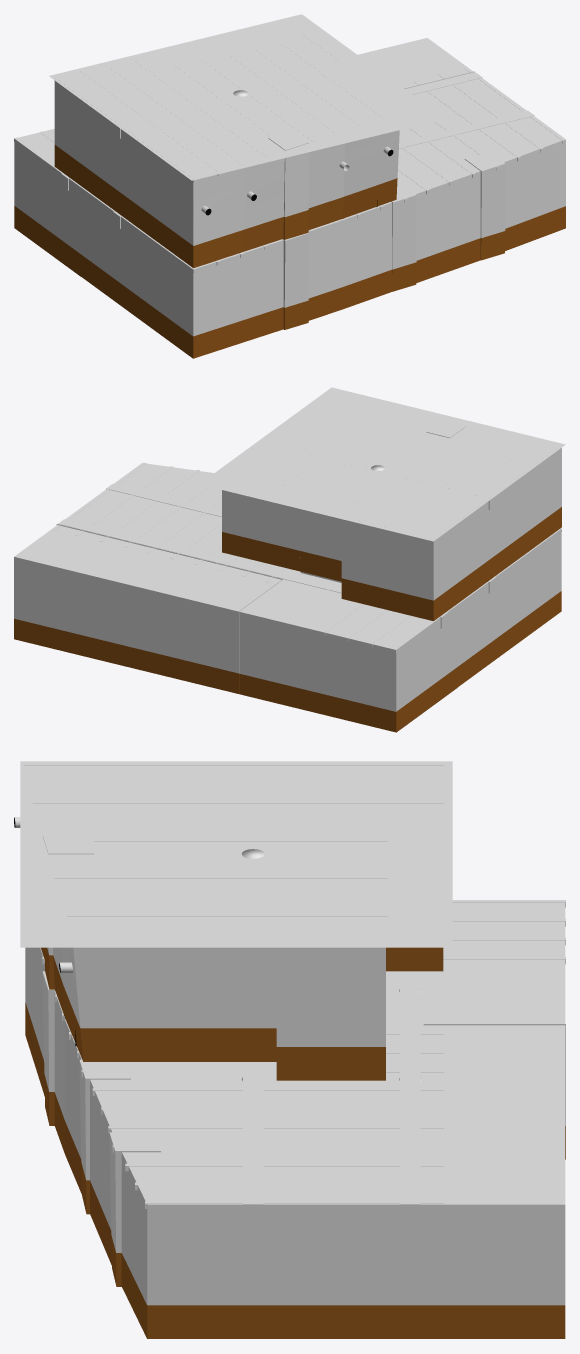
Rendered from Mail_Room.fbx.
The picture shows the model from 3 angles, top to bottom: view 1: azimuth 30°, elevation 25°; view 2: azimuth 150°, elevation 25°; view 3: azimuth 270°, elevation 25°; orthographic projection. The views are drawn at different scales.
Parts seen in each view (by area): view 1: Orlop Walls, G-Deck Celing, G-Deck Walls, Orlop Celing, Orlop Celing Supports, G-Deck Celing Supports, G-deck Post-Office; view 2: Orlop Walls, G-Deck Celing, G-Deck Walls, Orlop Celing, Orlop Celing Supports, G-Deck Celing Supports, G-deck Post-Office; view 3: Orlop Celing, G-Deck Celing, Orlop Walls, G-Deck Walls, Orlop Celing Supports, G-Deck Celing Supports, G-deck Post-Office.
Part boxes in pixels (<box>): Orlop Walls: <box>14,141,565,358</box>; G-Deck Celing: <box>49,14,444,180</box>; G-Deck Walls: <box>54,76,399,268</box>; Orlop Celing: <box>18,38,565,268</box>; Orlop Celing Supports: <box>14,67,565,329</box>; G-Deck Celing Supports: <box>80,34,386,175</box>; G-deck Post-Office: <box>233,90,308,239</box>; Orlop Walls: <box>14,532,561,732</box>; G-Deck Celing: <box>199,387,565,541</box>; G-Deck Walls: <box>222,444,561,621</box>; Orlop Celing: <box>14,463,431,648</box>; Orlop Celing Supports: <box>52,462,561,693</box>; G-Deck Celing Supports: <box>235,407,537,536</box>; G-deck Post-Office: <box>300,421,465,582</box>; Orlop Celing: <box>40,902,565,1204</box>; G-Deck Celing: <box>20,761,452,947</box>; Orlop Walls: <box>25,947,565,1338</box>; G-Deck Walls: <box>14,763,443,1080</box>; Orlop Celing Supports: <box>42,900,565,1286</box>; G-Deck Celing Supports: <box>26,762,443,935</box>; G-deck Post-Office: <box>42,834,264,989</box>.
Size of the model in its own units: 1491 by 618 by 1133.
Materials: 11 (2 with a texture image).
